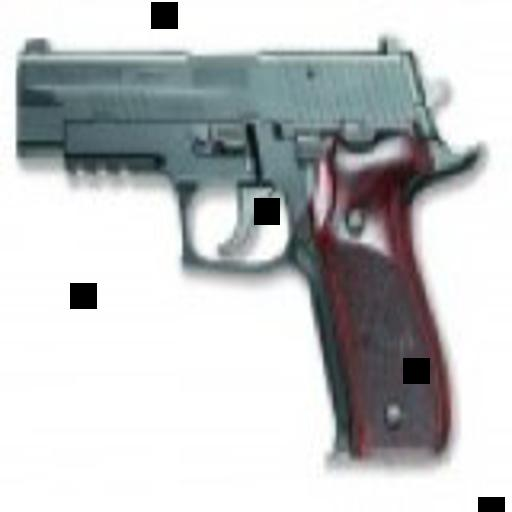Handgun: (15, 28, 482, 455)
